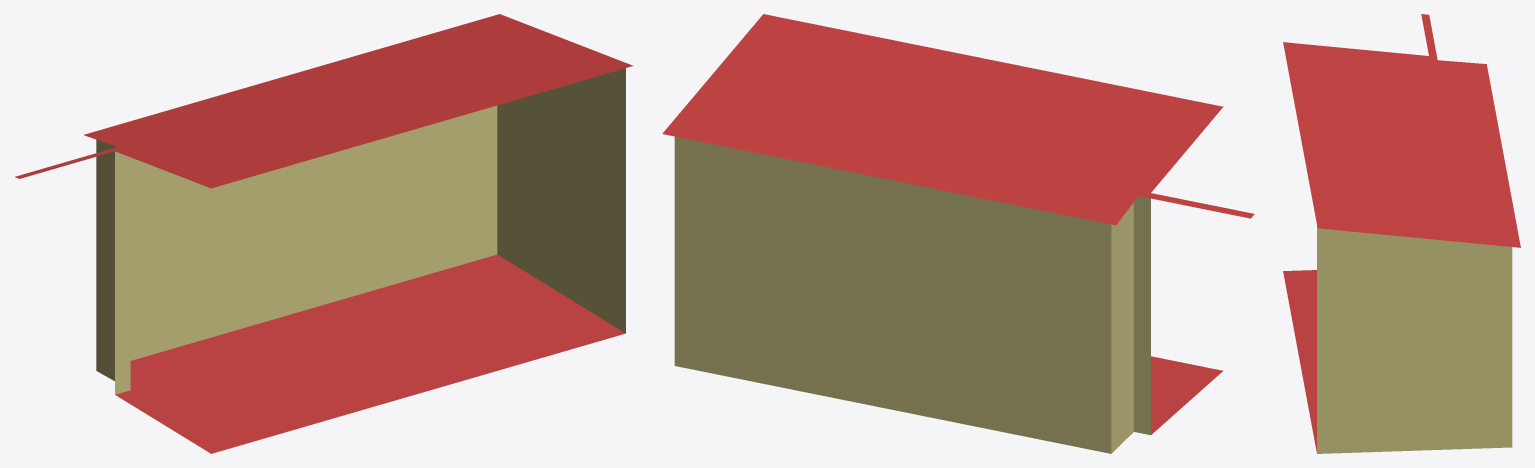
3 renders of one model, left to right at view 1: azimuth 30°, elevation 25°; view 2: azimuth 150°, elevation 25°; view 3: azimuth 270°, elevation 25°, orthographic. The views are drawn at different scales.
Bounding box in the file's own units: 17.11 × 7.37 × 7.83.
